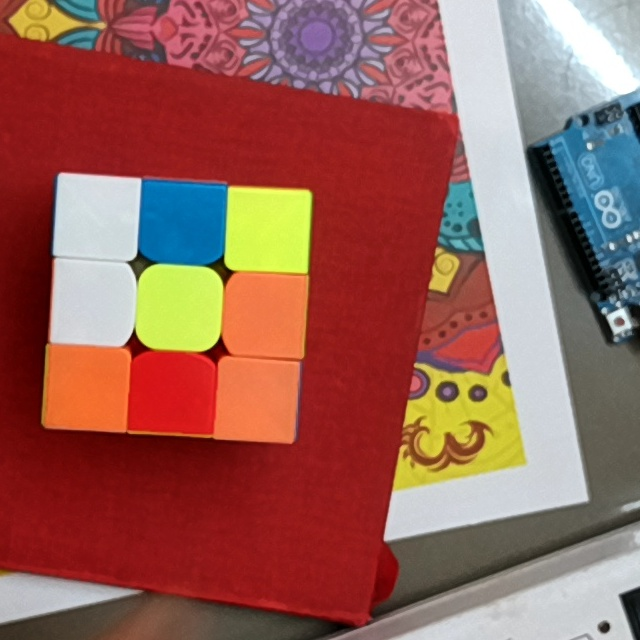tile: (234, 193, 304, 265), (53, 353, 122, 424), (233, 280, 301, 352), (223, 364, 292, 434), (57, 266, 125, 337), (147, 186, 219, 253), (60, 182, 129, 251), (139, 359, 207, 428), (148, 274, 213, 340)
